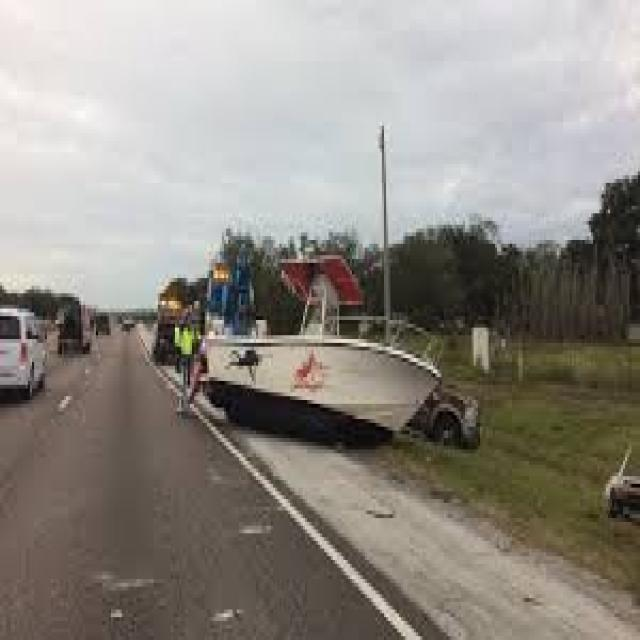ship2: (196, 256, 446, 444)
